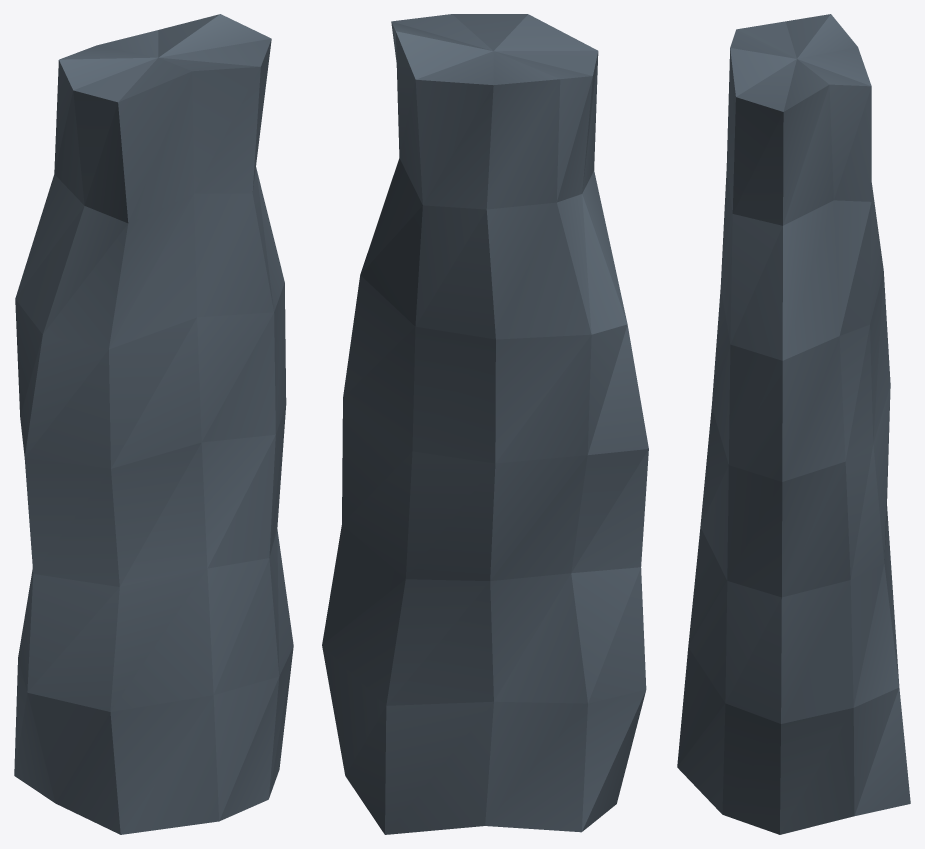
File: iron-cliff.glb
The picture shows the model from 3 angles, left to right: view 1: azimuth 30°, elevation 25°; view 2: azimuth 150°, elevation 25°; view 3: azimuth 270°, elevation 25°; orthographic projection. The views are drawn at different scales.
Size of the model in its own units: 2.85 by 7.24 by 2.09.
